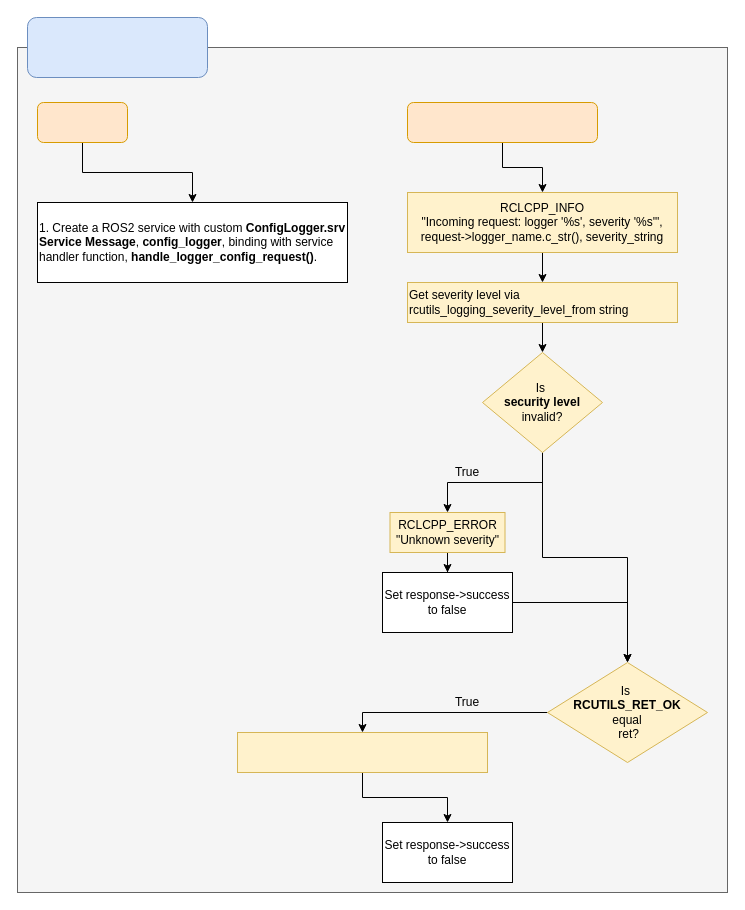
Image size: 745x910. Some labels were removed from this diagram. The shapes that lost their labels are listed below. From the top down, each one's centre as x and y in pixels, then its label:
(117,47): logger_config
(82,122): Constructor
(502,122): handle_logger_config_request()
(362,752): RCLCPP_ERROR "Error %d getting severity level from request: %s"
